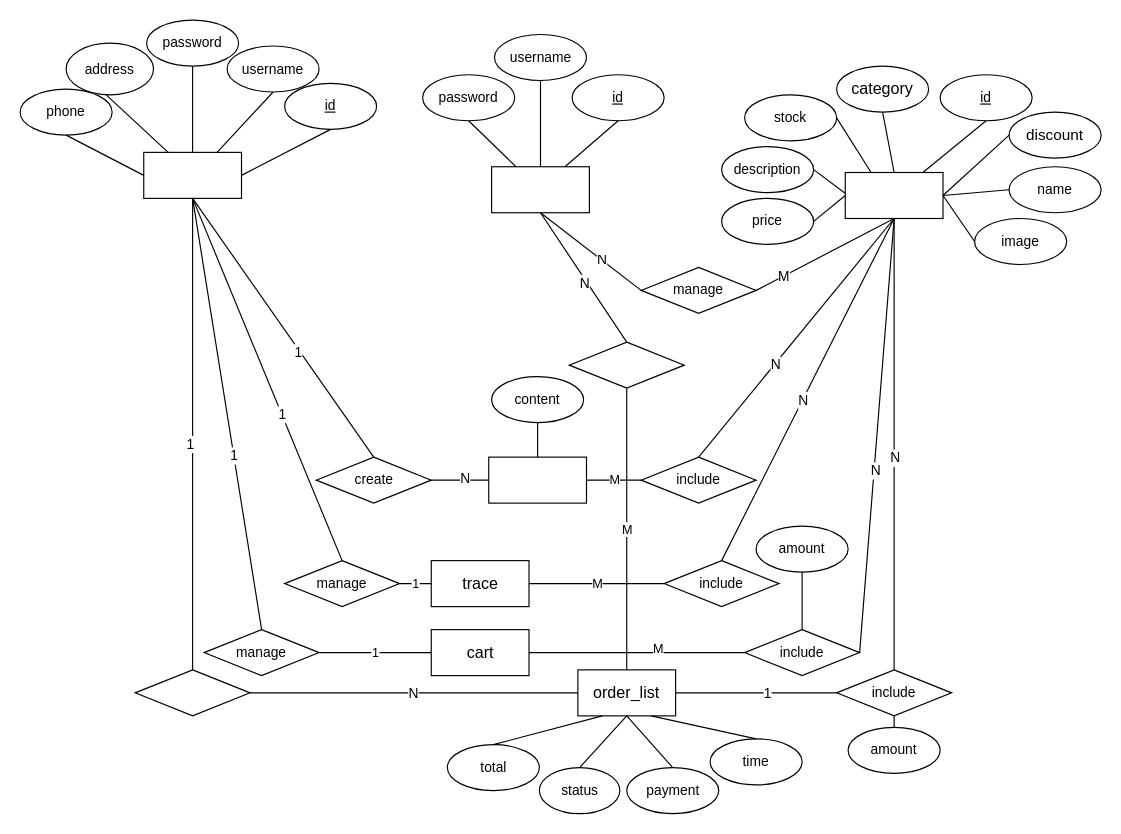
Image size: 1121x834. Some labels were removed from this diagram. The shapes that lost their labels are listed below. From the top down, each one's centre as x and y in pixels, then its label:
At (x=192, y=174): "customer".
At (x=539, y=189): "manager".
At (x=893, y=194): "product".
At (x=626, y=364): "check".
At (x=537, y=479): "review".
At (x=192, y=692): "order".
